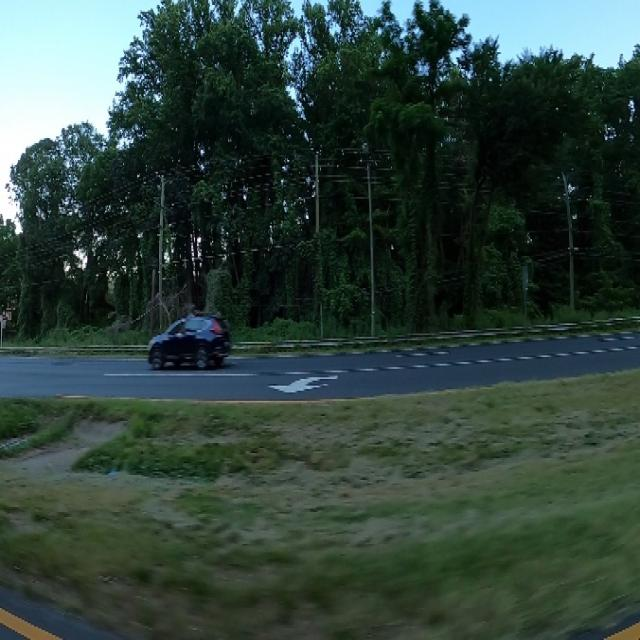cars: (144, 305, 234, 386)
